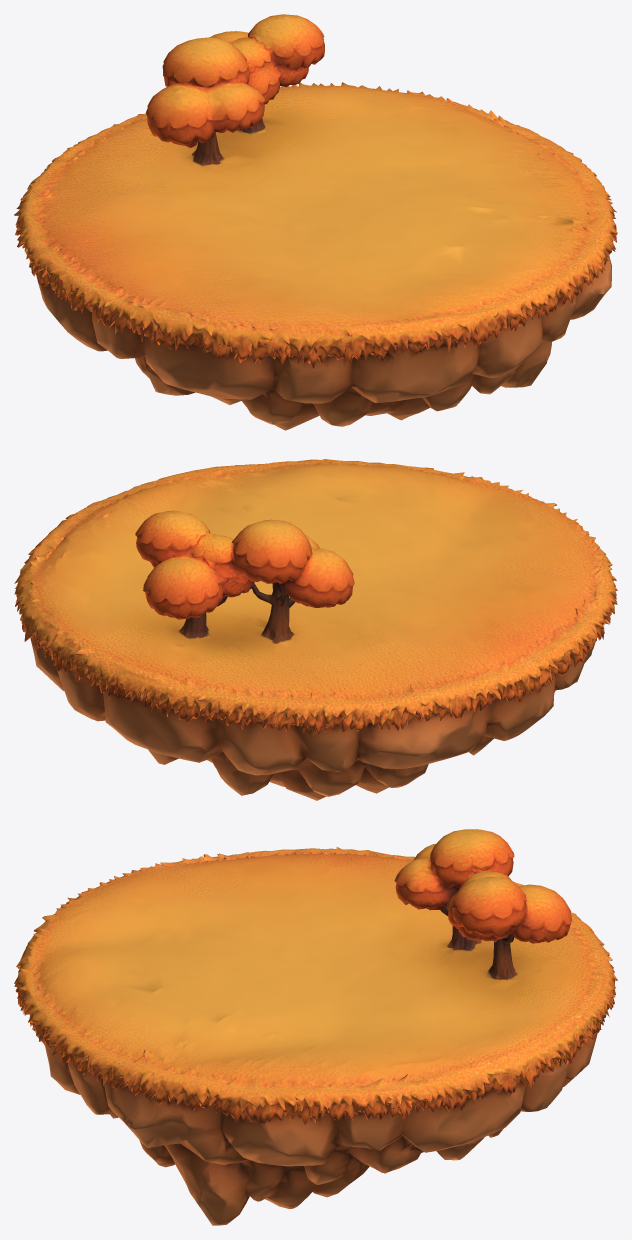
The model's file is TERRAIN_1_autumn.glb.
3 views of the same model, one above another, from view 1: azimuth 30°, elevation 25°; view 2: azimuth 150°, elevation 25°; view 3: azimuth 270°, elevation 25° (orthographic).
Visible parts, largest first — view 1: tripo_node_391c46d4-3ab7-4e3a-af7c-a3d5e2609806; view 2: tripo_node_391c46d4-3ab7-4e3a-af7c-a3d5e2609806; view 3: tripo_node_391c46d4-3ab7-4e3a-af7c-a3d5e2609806.
Boxes of the visible parts, box(x1,y1,x2,y2) form: tripo_node_391c46d4-3ab7-4e3a-af7c-a3d5e2609806: box(14, 14, 617, 430); tripo_node_391c46d4-3ab7-4e3a-af7c-a3d5e2609806: box(14, 459, 617, 800); tripo_node_391c46d4-3ab7-4e3a-af7c-a3d5e2609806: box(14, 829, 617, 1225).
Size of the model in its own units: 1 by 0.5679 by 0.9973.
1 material, 1 textured.
